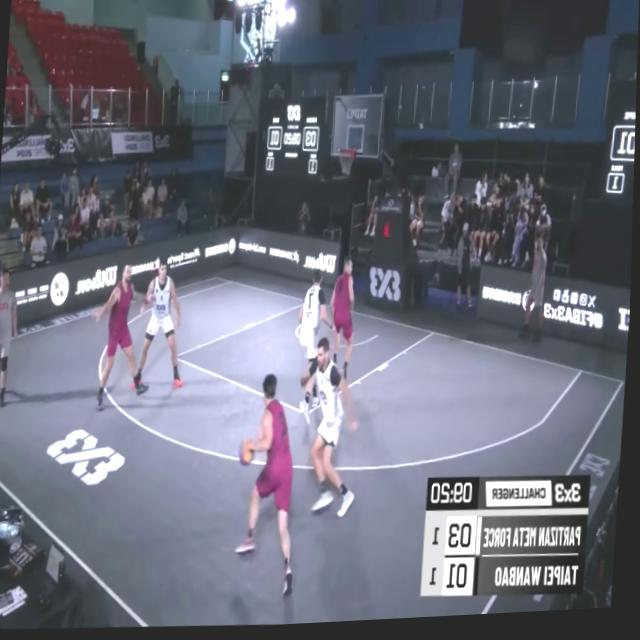ball: (241, 434, 261, 473)
hoop: (337, 146, 358, 183)
player: (235, 378, 306, 603), (296, 340, 366, 525), (89, 258, 159, 411), (137, 257, 190, 396), (294, 273, 333, 418), (326, 263, 362, 390)
